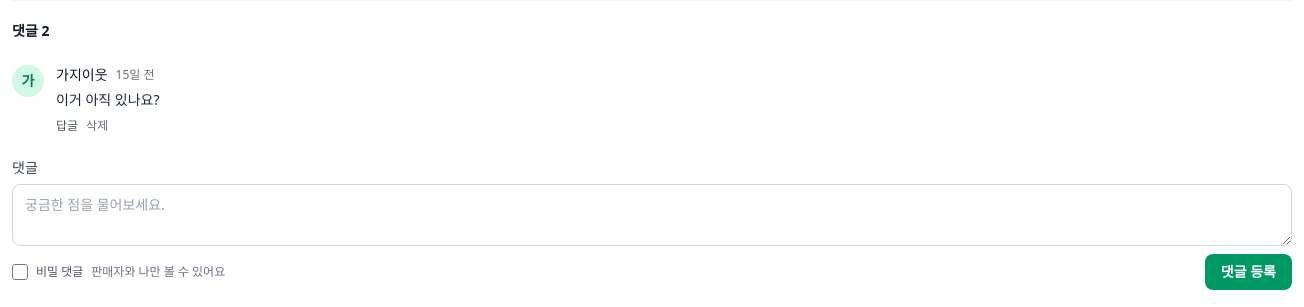
Test: CommentSection › 게시물 판매자는 남의 댓글도 지울 수 있다
Click the button "삭제": (97,126) [86,118,108,134]
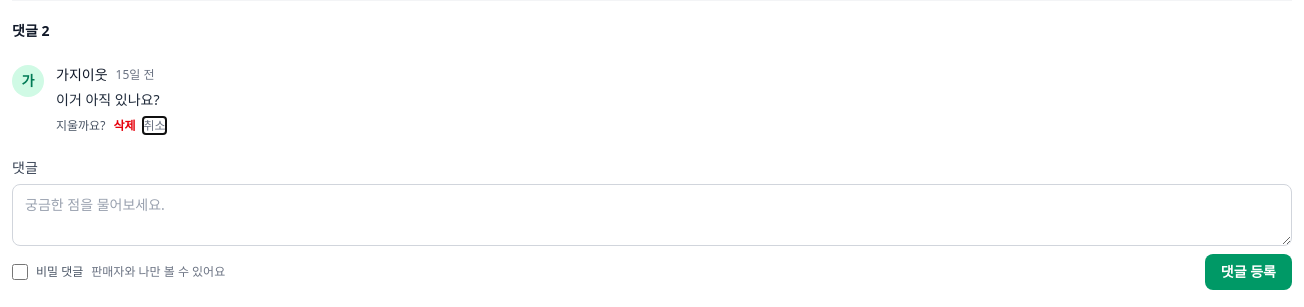
Click the button "삭제": (124,126) [113,118,136,134]
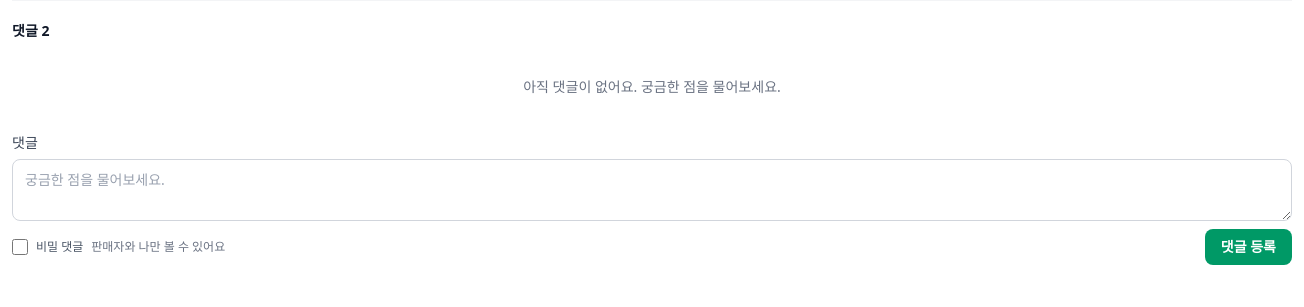
Expected: the text "이거 아직 있나요?" is gone
